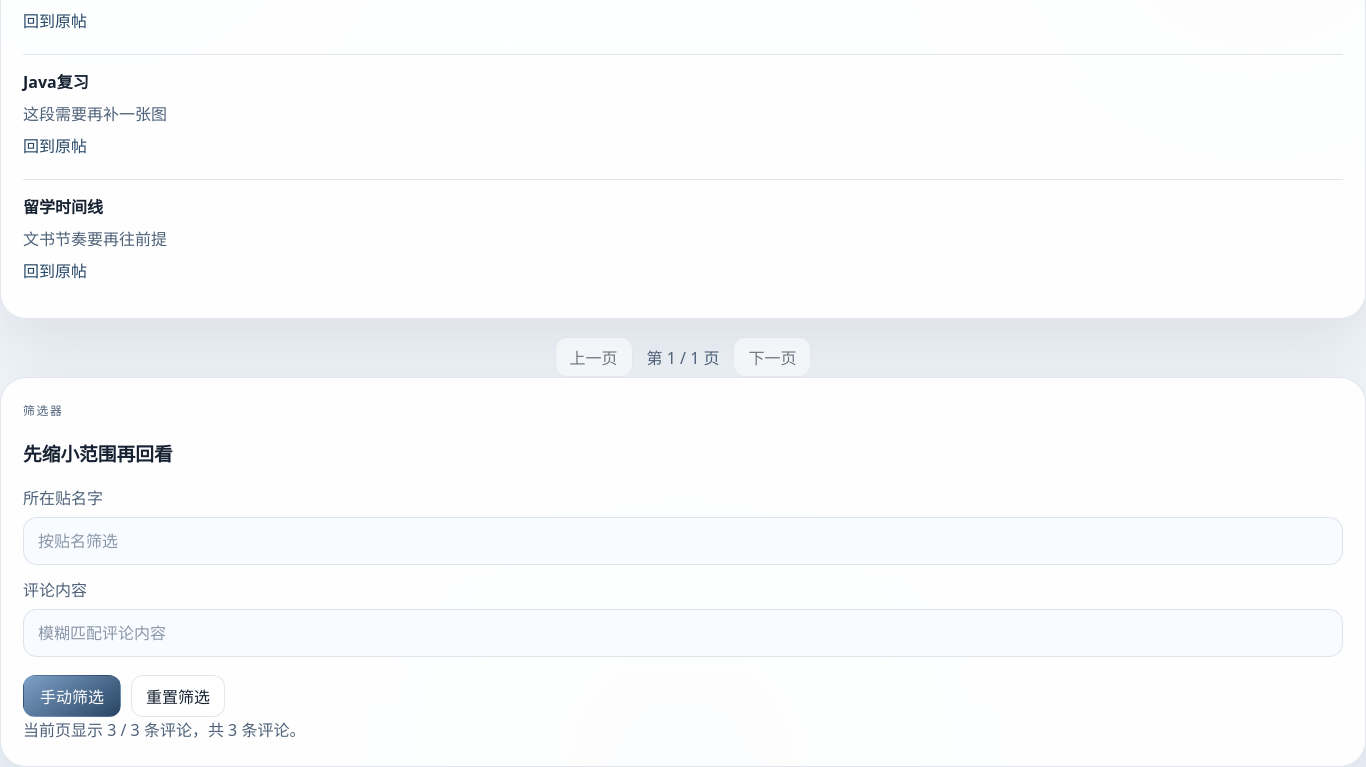
Test: SettingsCommentsPage › shows a side filter panel and only filters after the manual action
The width and height of the screenshot is (1366, 767).
(page scrolled)
Expected: the element named "我的评论筛选器" is shown, [0,377,1365,766]
In the field labelled "所在贴名字": [683, 541] box [23,517,1343,565], type "Java"
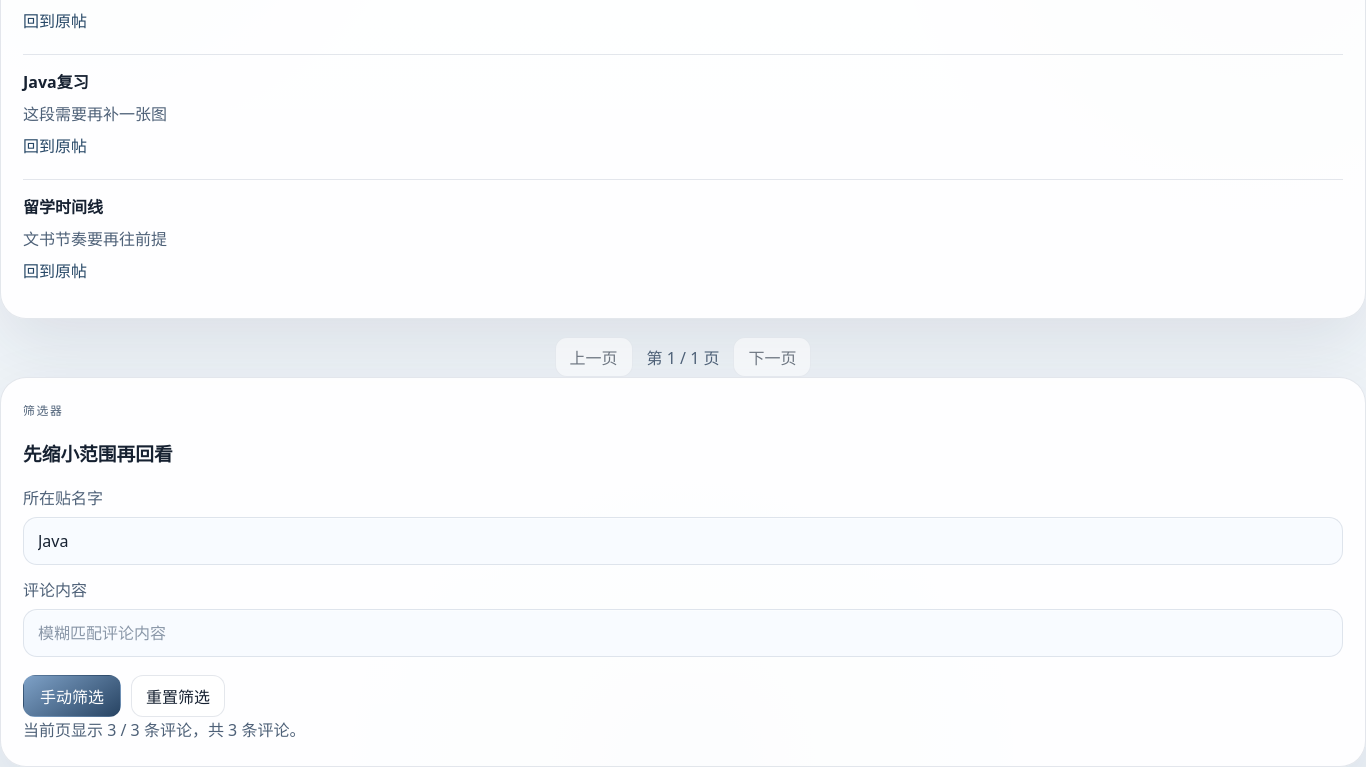
Expected: the text "Java复习" is shown, [23,71,89,93]
Click the button "手动筛选": [72, 696] box [23,675,121,717]
(page scrolled)
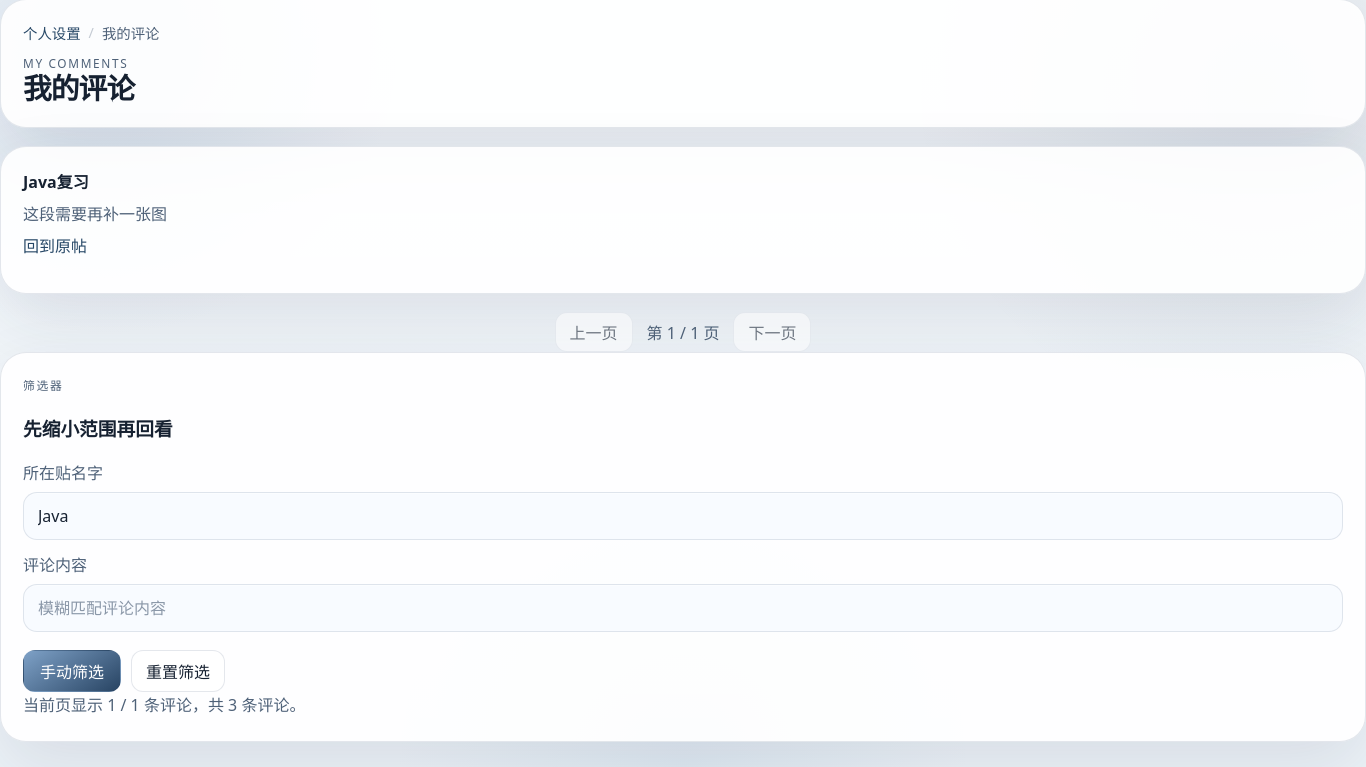
Expected: the text "Java复习" is shown, [23,171,89,193]
Clear the field labelled "所在贴名字": [683, 516] box [23,492,1343,540]
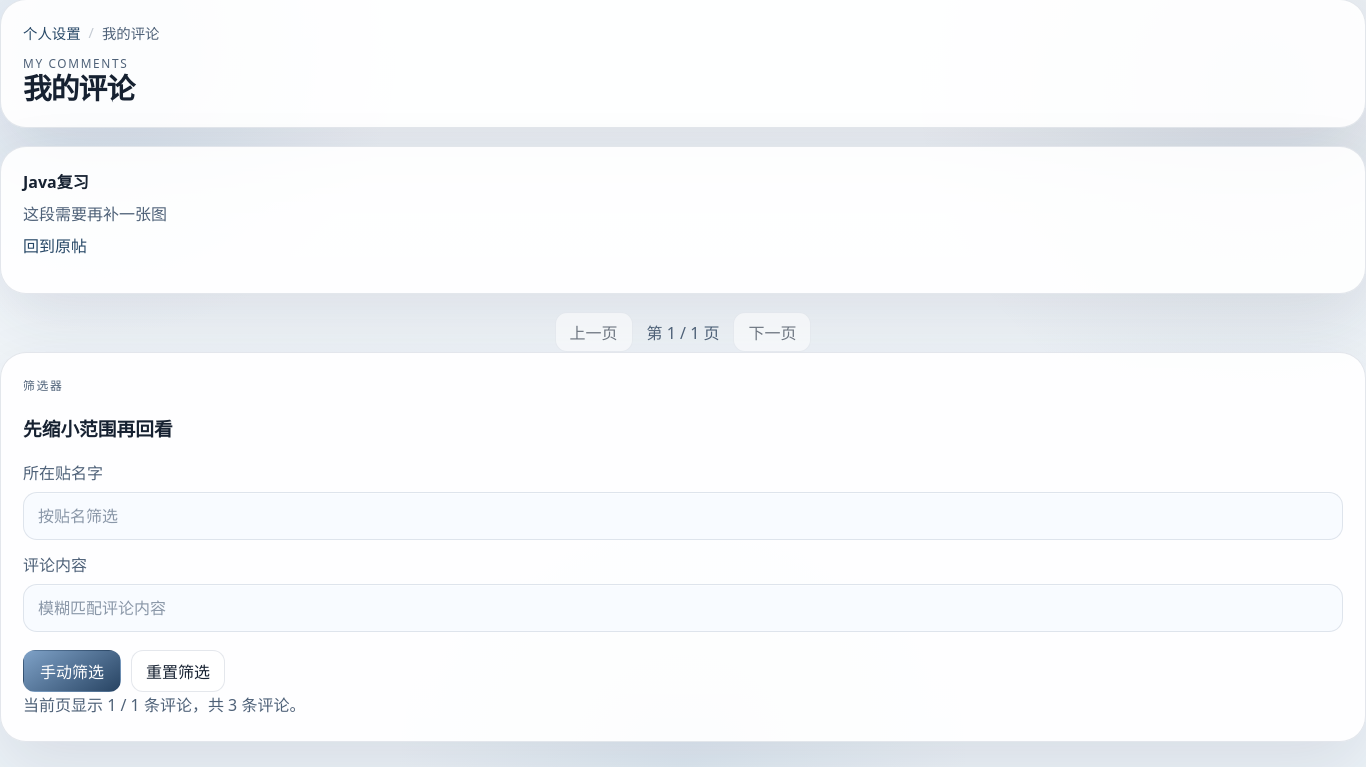
In the field labelled "评论内容": [683, 608] box [23,584,1343,632], type "文书"
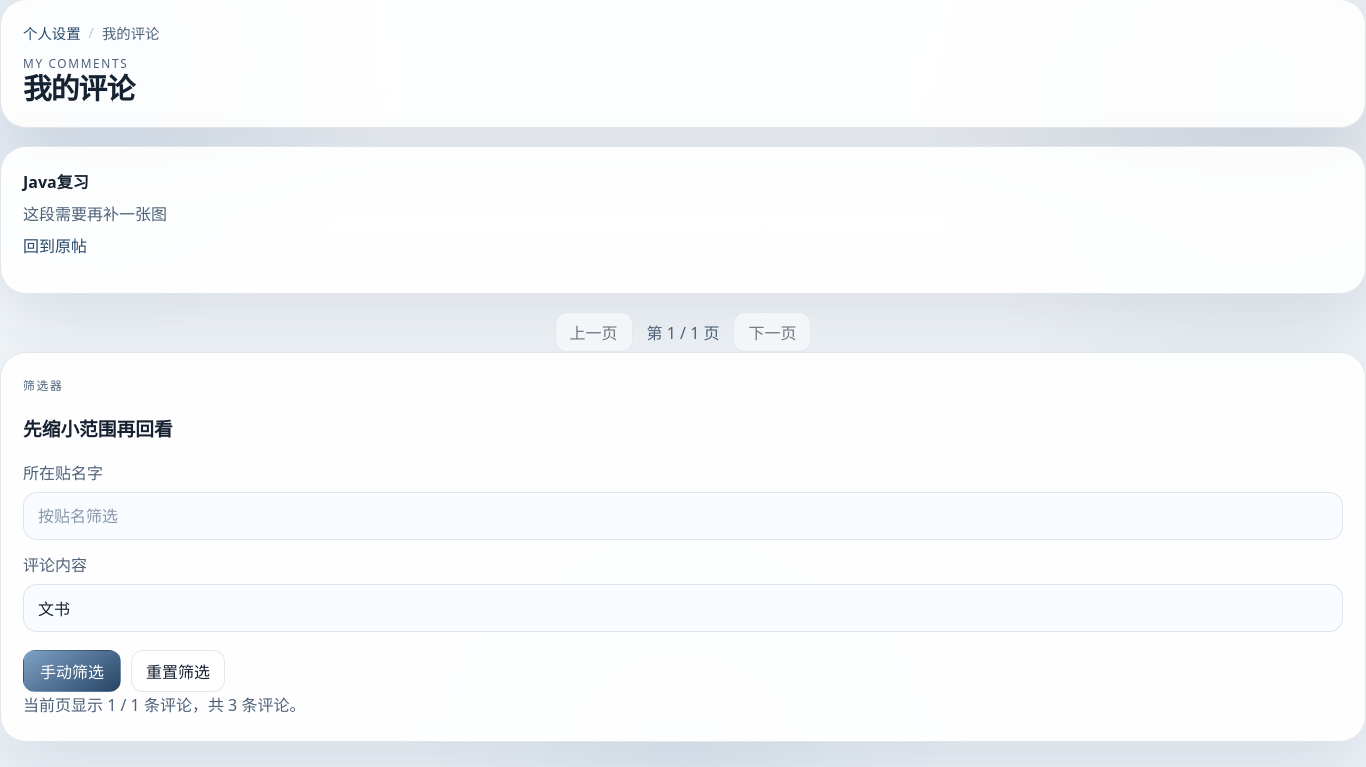
Expected: the text "Java复习" is shown, [23,171,89,193]
Click the button "手动筛选": [72, 671] box [23,650,121,692]
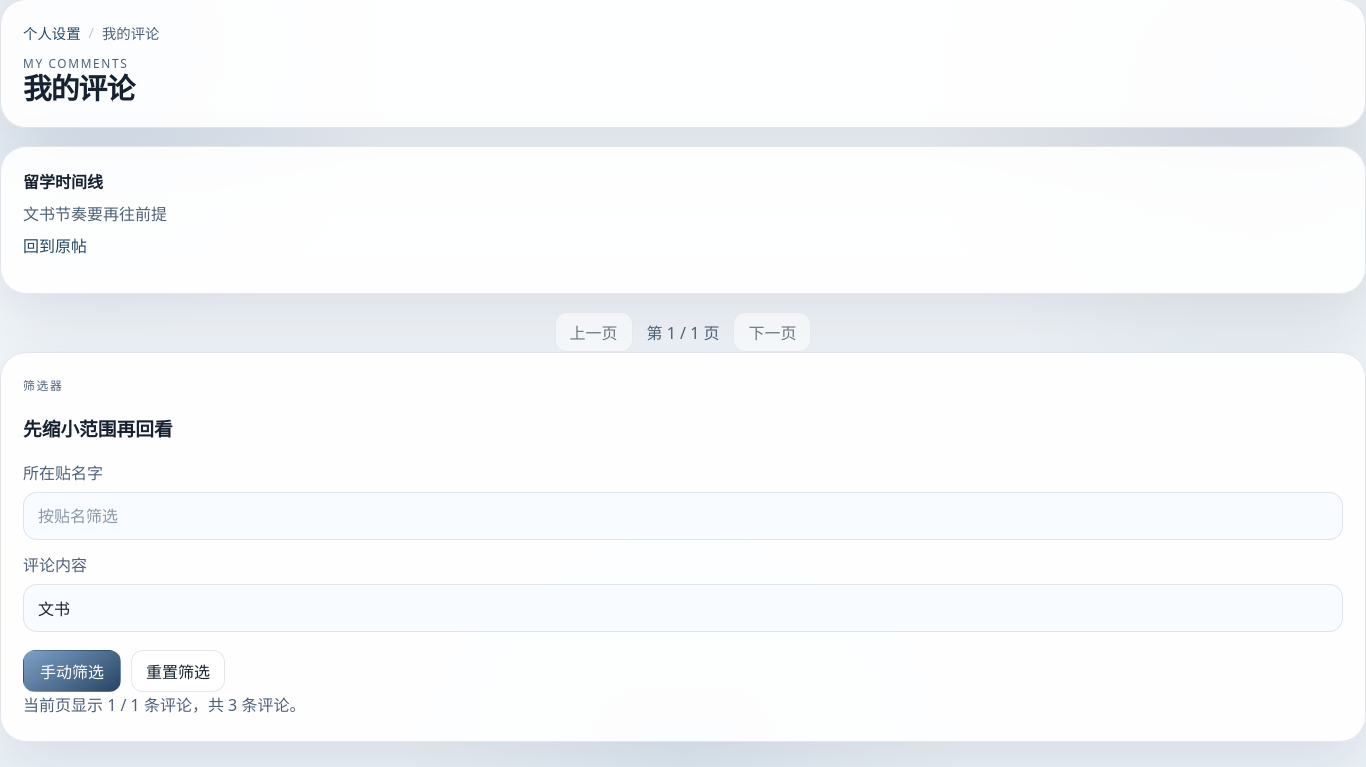
Now the text "留学时间线" is shown, box [23,171,103,193]
Now the text "Java复习" is gone
